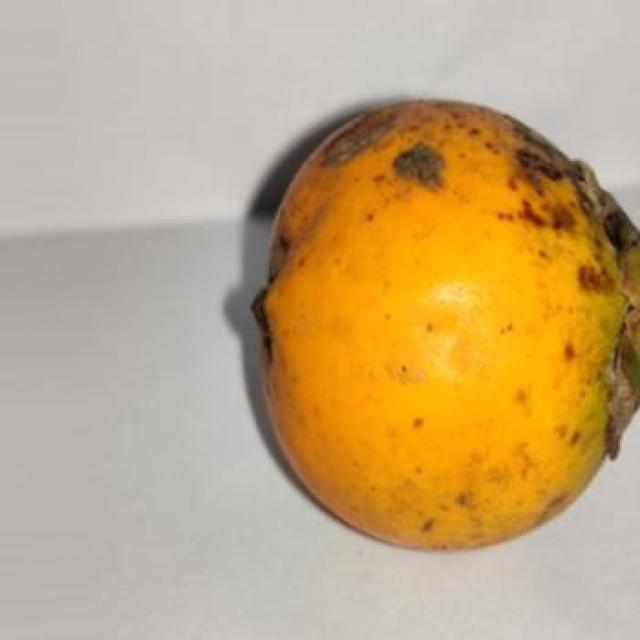good: (251, 101, 638, 552)
